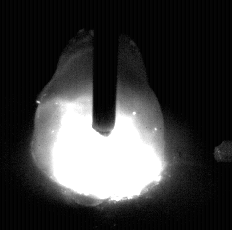arame: (93, 0, 118, 136)
poca: (29, 0, 166, 230)
